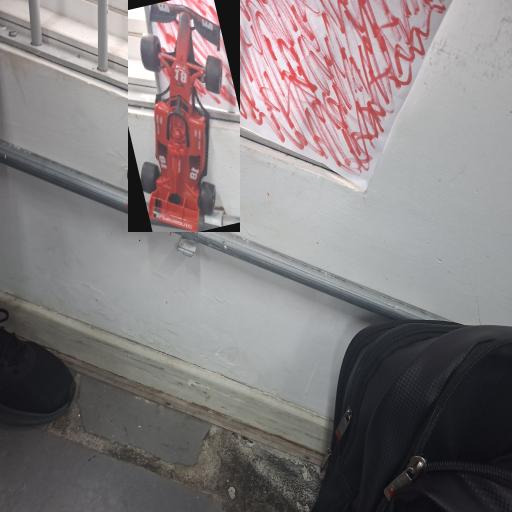carro: (127, 0, 238, 231)
